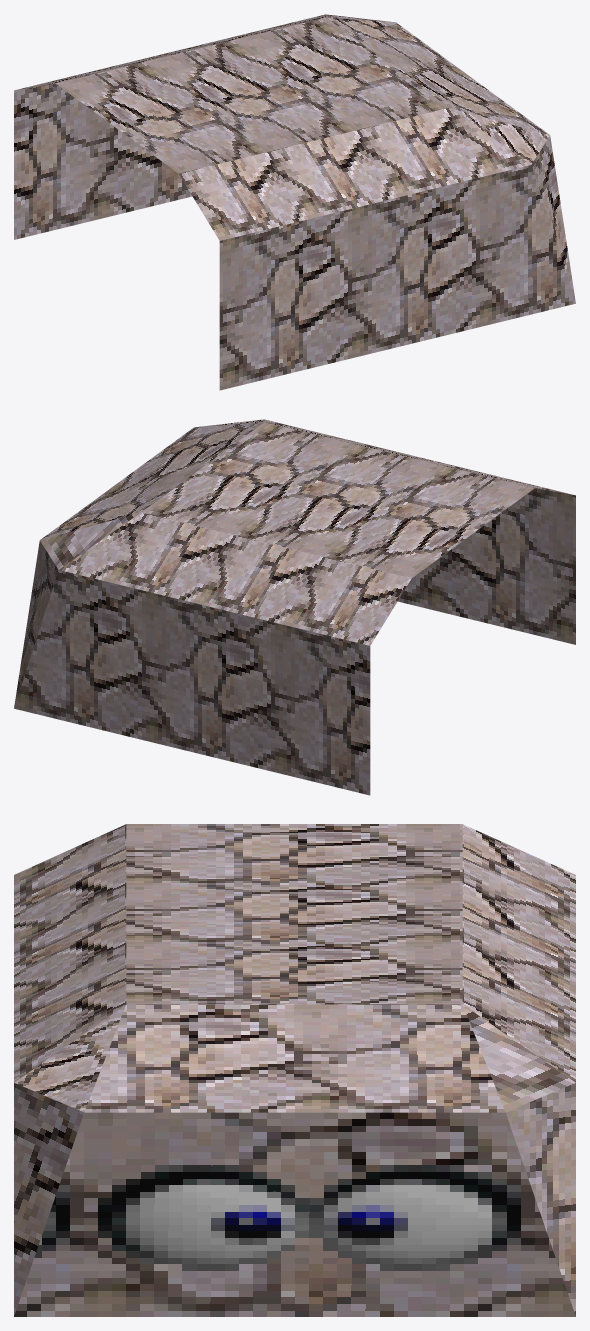
File: face_pusher.fbx
The picture shows the model from 3 angles, top to bottom: view 1: azimuth 30°, elevation 25°; view 2: azimuth 150°, elevation 25°; view 3: azimuth 270°, elevation 25°; orthographic projection. The views are drawn at different scales.
Parts seen in each view (by area): view 1: WF1:WF; view 2: WF1:WF; view 3: WF1:WF.
Boxes of the visible parts, <box> form: WF1:WF: <box>14,14,575,390</box>; WF1:WF: <box>14,419,575,795</box>; WF1:WF: <box>14,824,575,1316</box>.
Bounding box in the file's own units: 40.88 × 20.48 × 40.88.
Materials: 2 (2 with a texture image).
